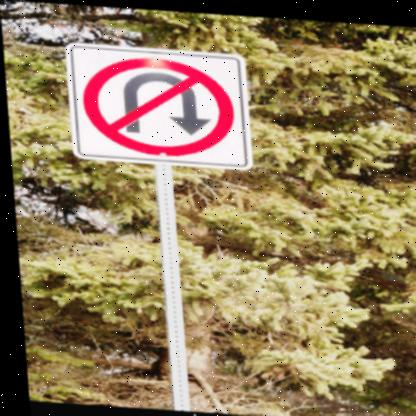No U-turn: (69, 41, 253, 170)
